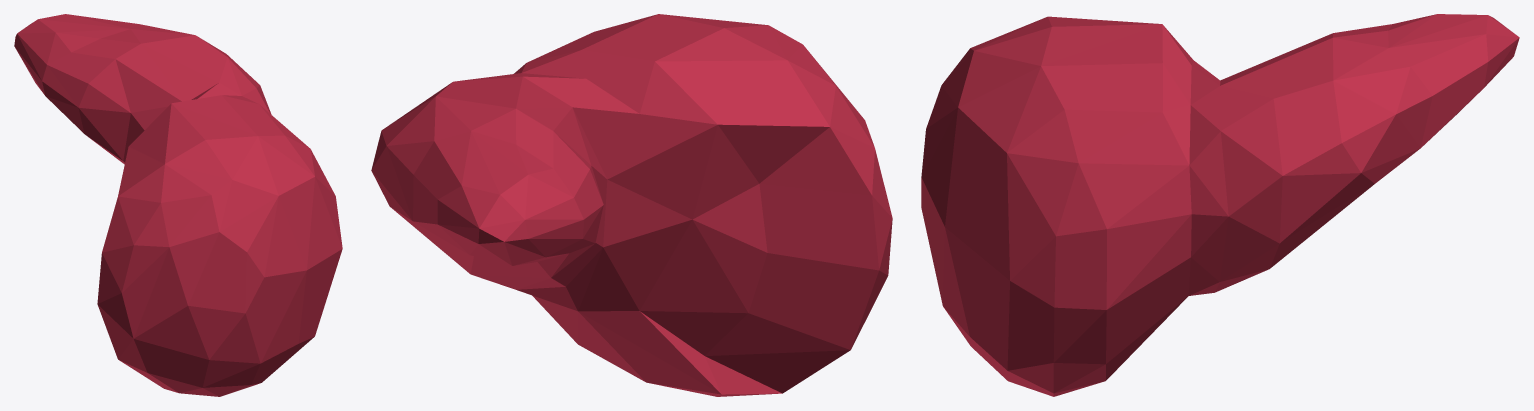
Rendered from Liver.fbx.
3 views of the same model, side by side, from view 1: azimuth 30°, elevation 25°; view 2: azimuth 150°, elevation 25°; view 3: azimuth 270°, elevation 25° (orthographic). The views are drawn at different scales.
Parts seen in each view (by area): view 1: Liver; view 2: Liver; view 3: Liver.
Boxes of the visible parts, <box> form: Liver: <box>14,14,342,396</box>; Liver: <box>371,14,892,396</box>; Liver: <box>921,14,1519,396</box>.
Size of the model in its own units: 99.59 by 101 by 152.
